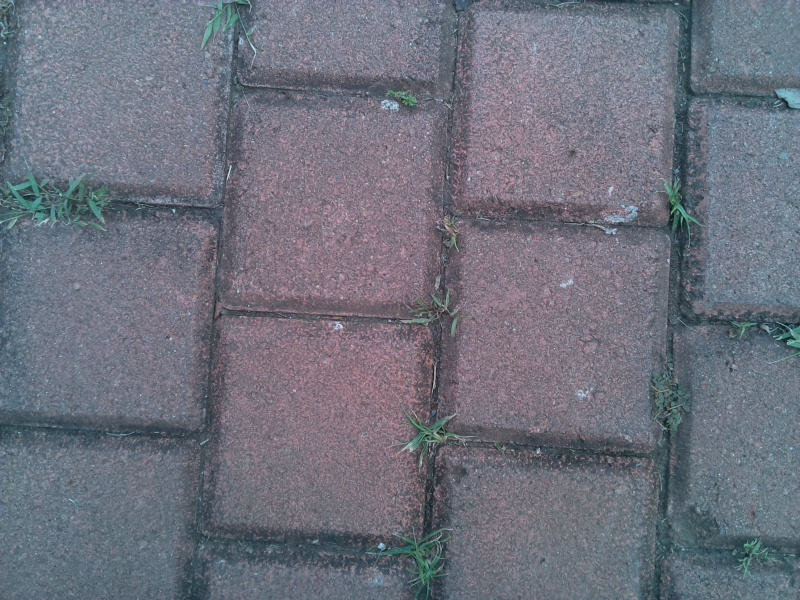Weed: (2, 171, 117, 234), (381, 525, 447, 598), (653, 349, 694, 434), (394, 293, 464, 337), (400, 405, 457, 459), (657, 172, 696, 244), (200, 3, 248, 48), (434, 210, 472, 258), (732, 531, 764, 581), (724, 309, 765, 347), (380, 81, 422, 114)
